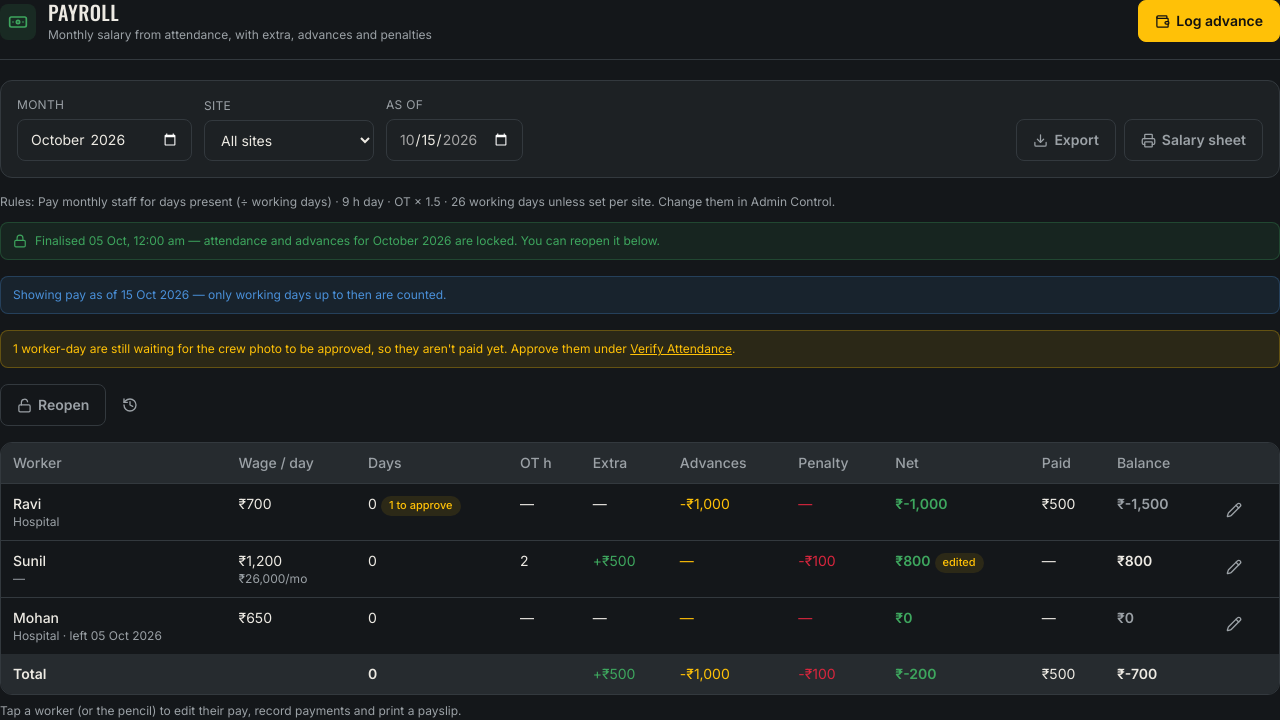
Test case: interactive paths render › Payroll "Log advance" lists workers by site and totals the ticks
This screenshot has width=1280, height=720.
Click the button "Log advance" at (1209, 21), box [1138,0,1279,42]
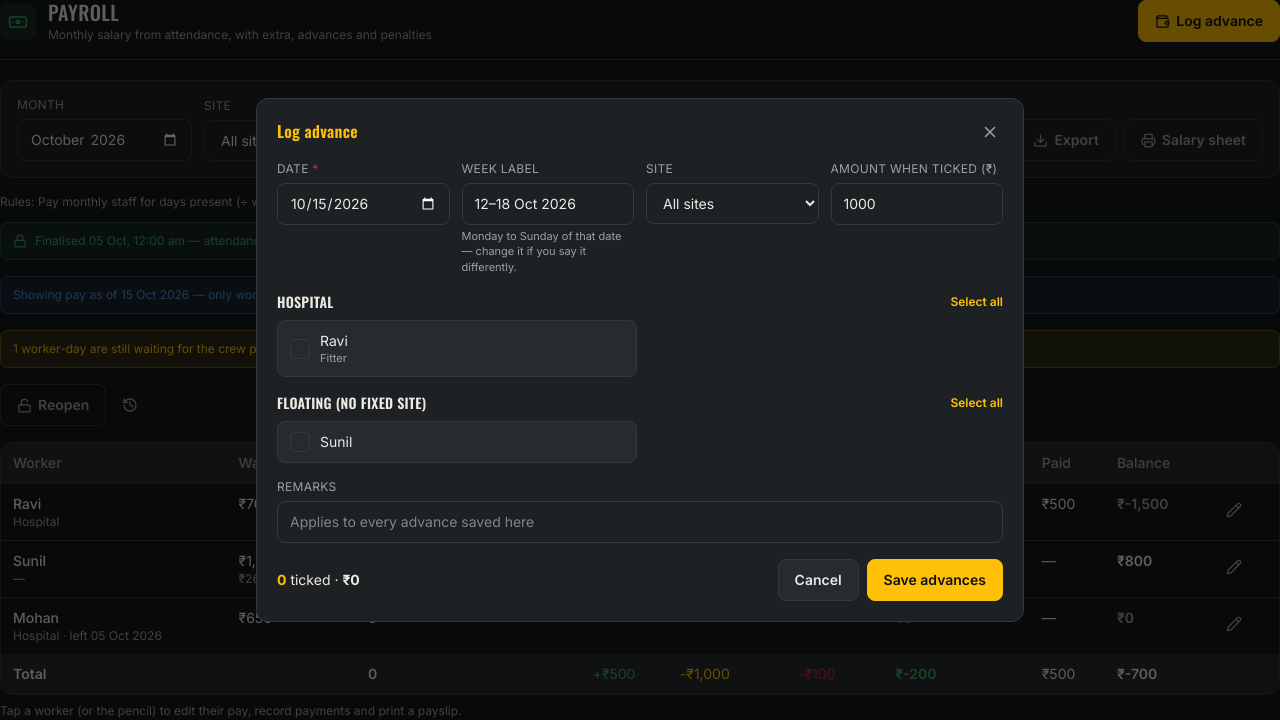
Expected: the text "Hospital" is shown, [13,514,59,529]
Expected: the text "FLOATING" is shown, [277,392,426,413]
Click the button "Ravi Fitter" at (300, 349), box [278,321,628,376]
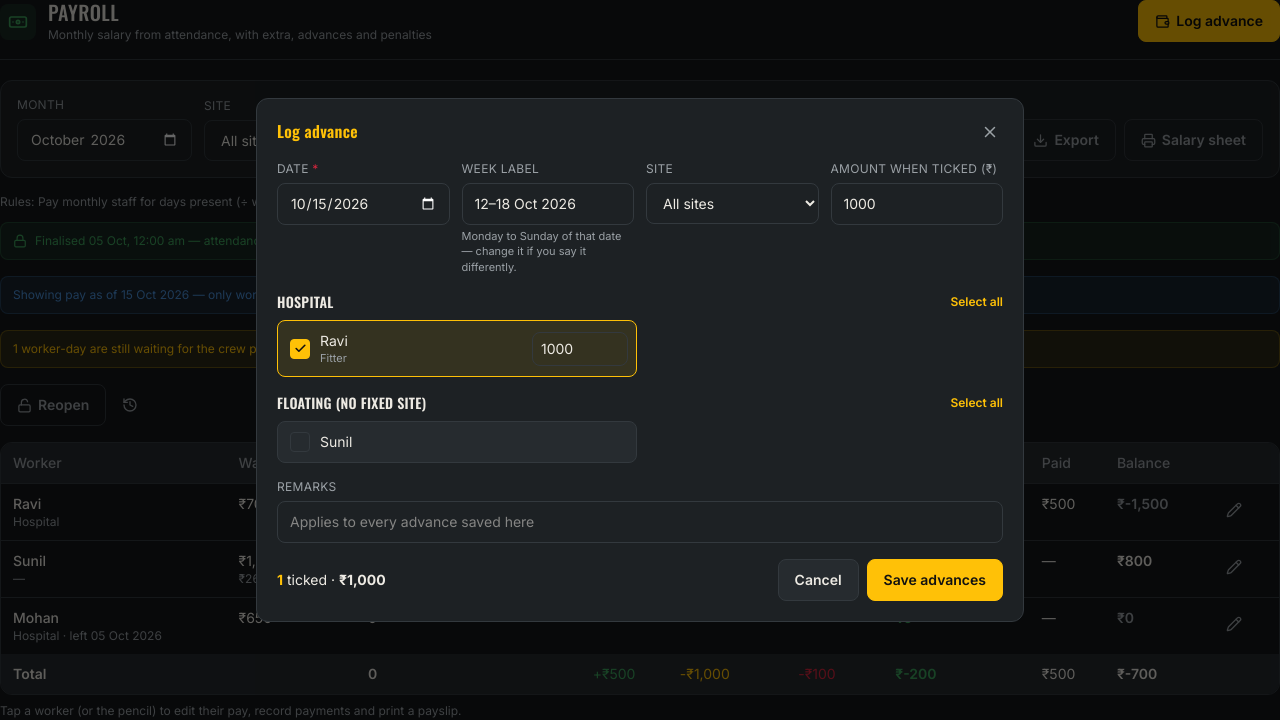
Expected: the text "1 ticked · ₹1,000" is shown, [277,570,386,590]
